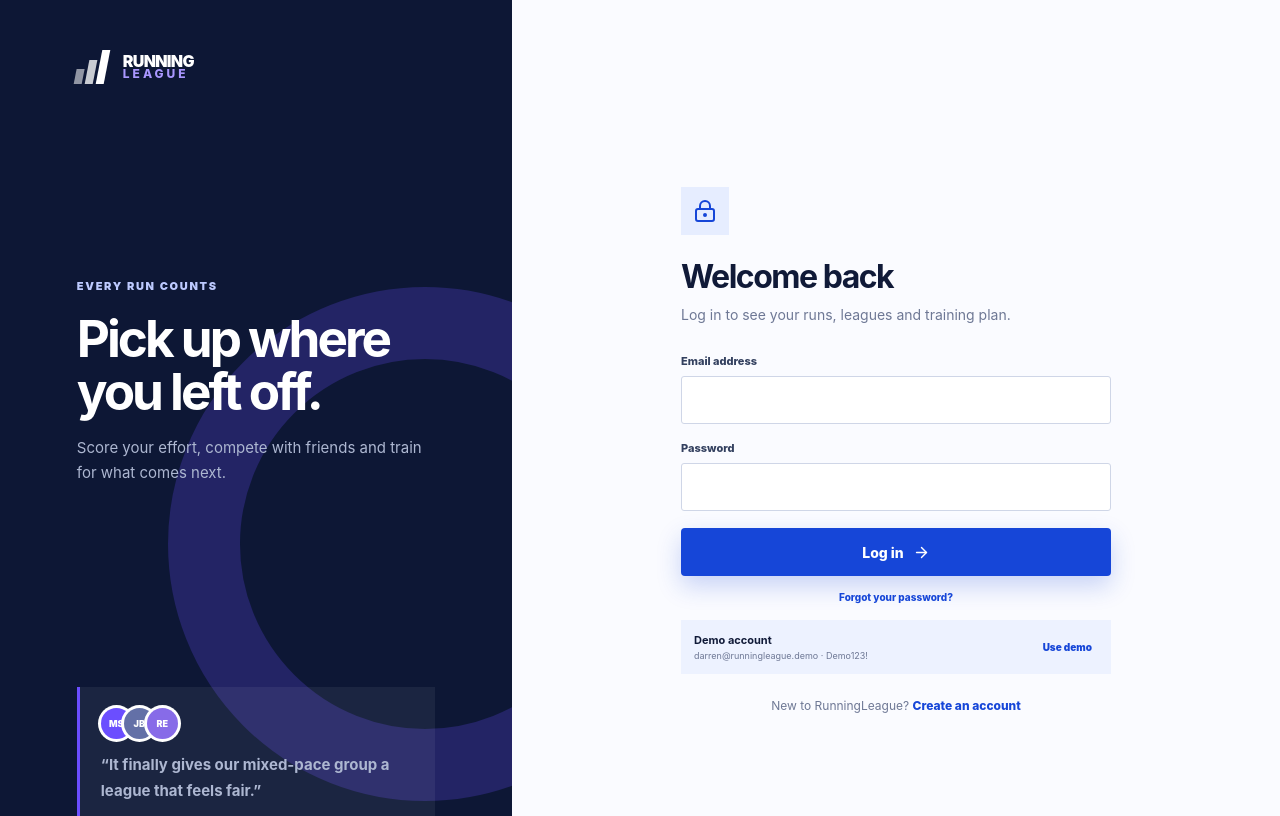
Test: RunningLeague product › adds and scores a manual run
The width and height of the screenshot is (1280, 816).
Click the button "Use demo" at (1067, 647), box [1037,640,1098,654]
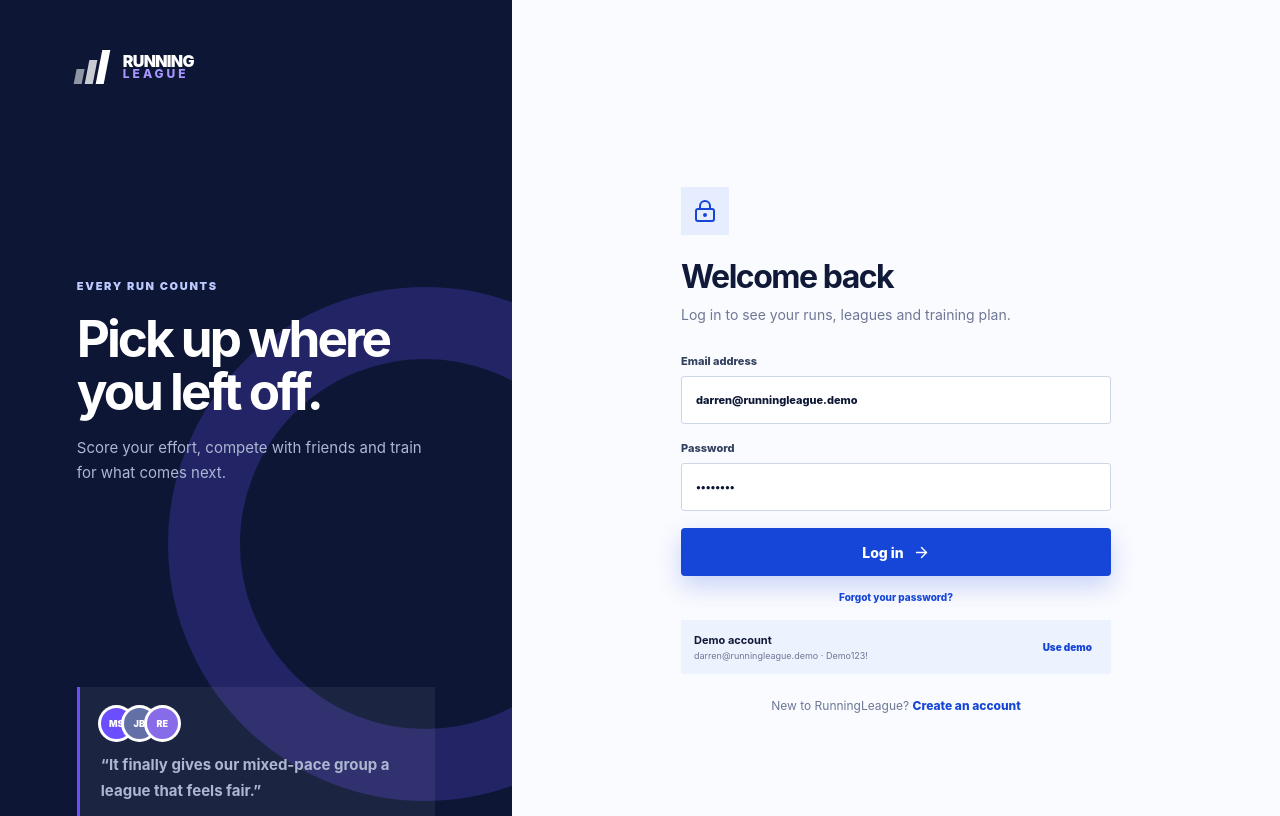
Click the button "Log in" at (896, 552), box [681,528,1111,576]
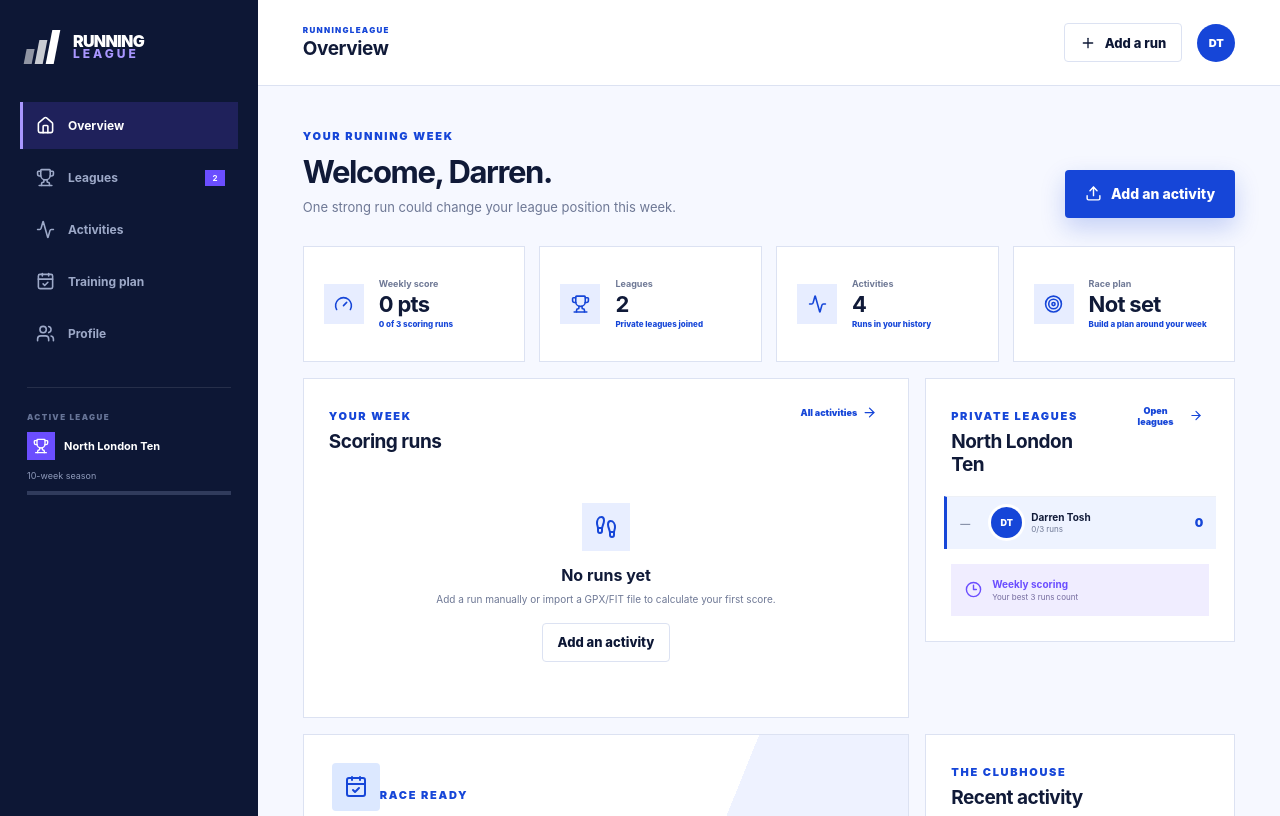
Expected: the heading "Welcome, Darren." is shown, [303,153,552,190]
Click the link "Activities" at (80, 230), box [36,220,123,239]
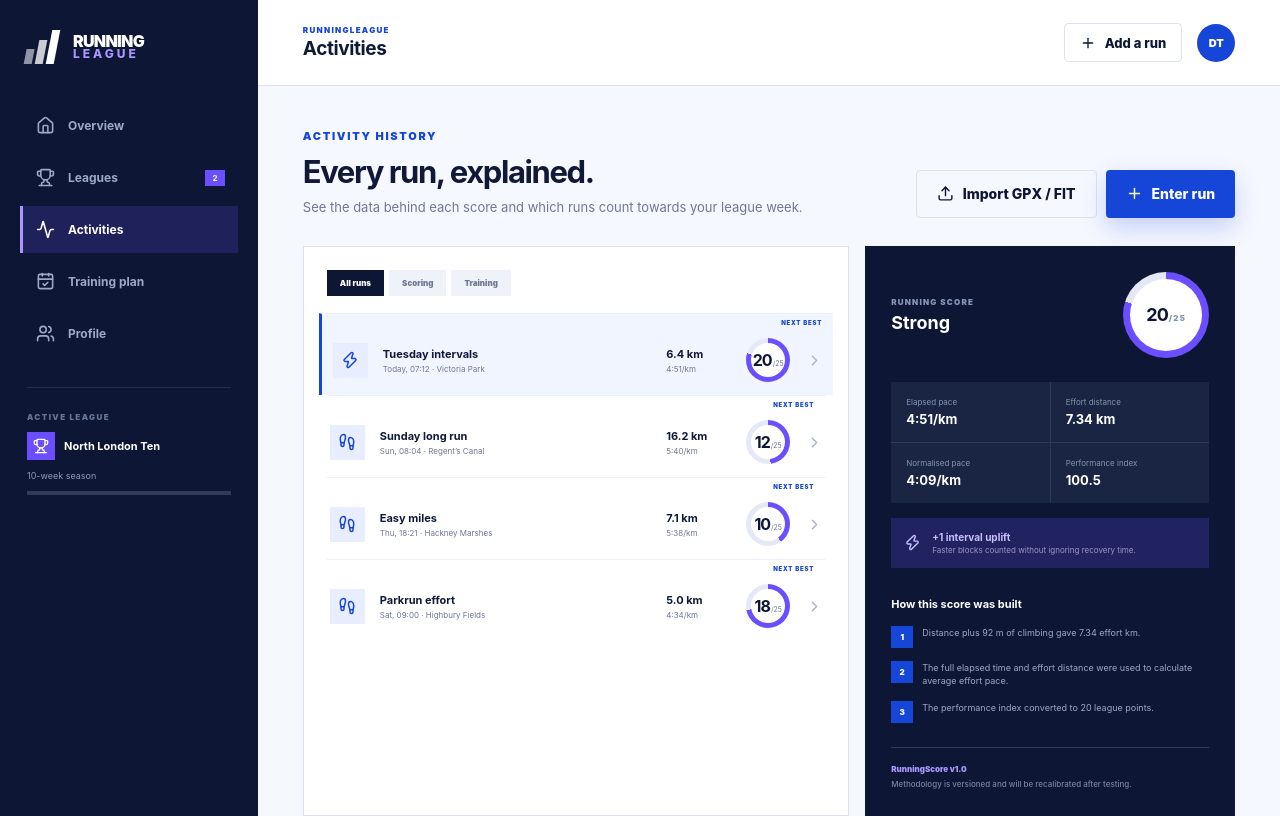
Click the button "Enter run" at (1170, 194), box [1106,170,1235,218]
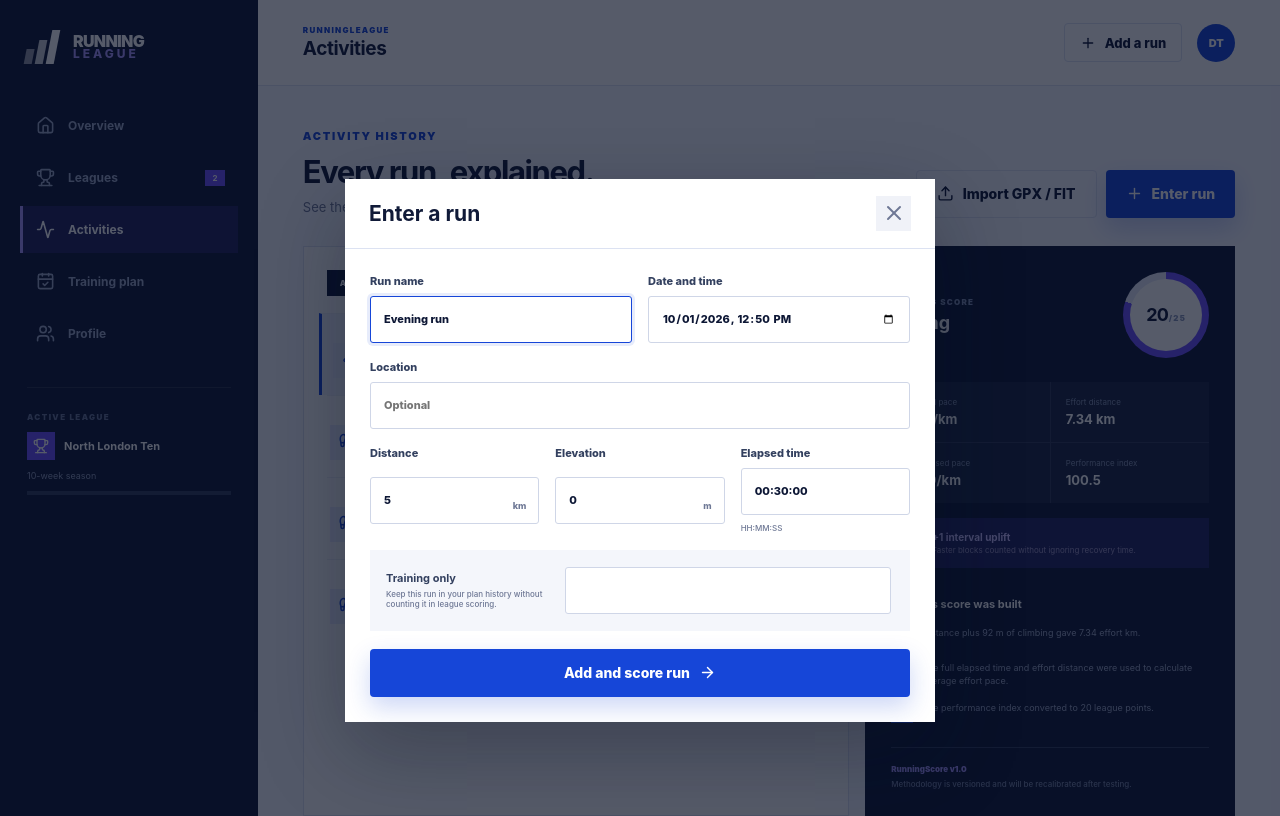
Replace the text in the field labelled "Run name" with "Lunch 5K" at (501, 319), box [370,296,632,342]
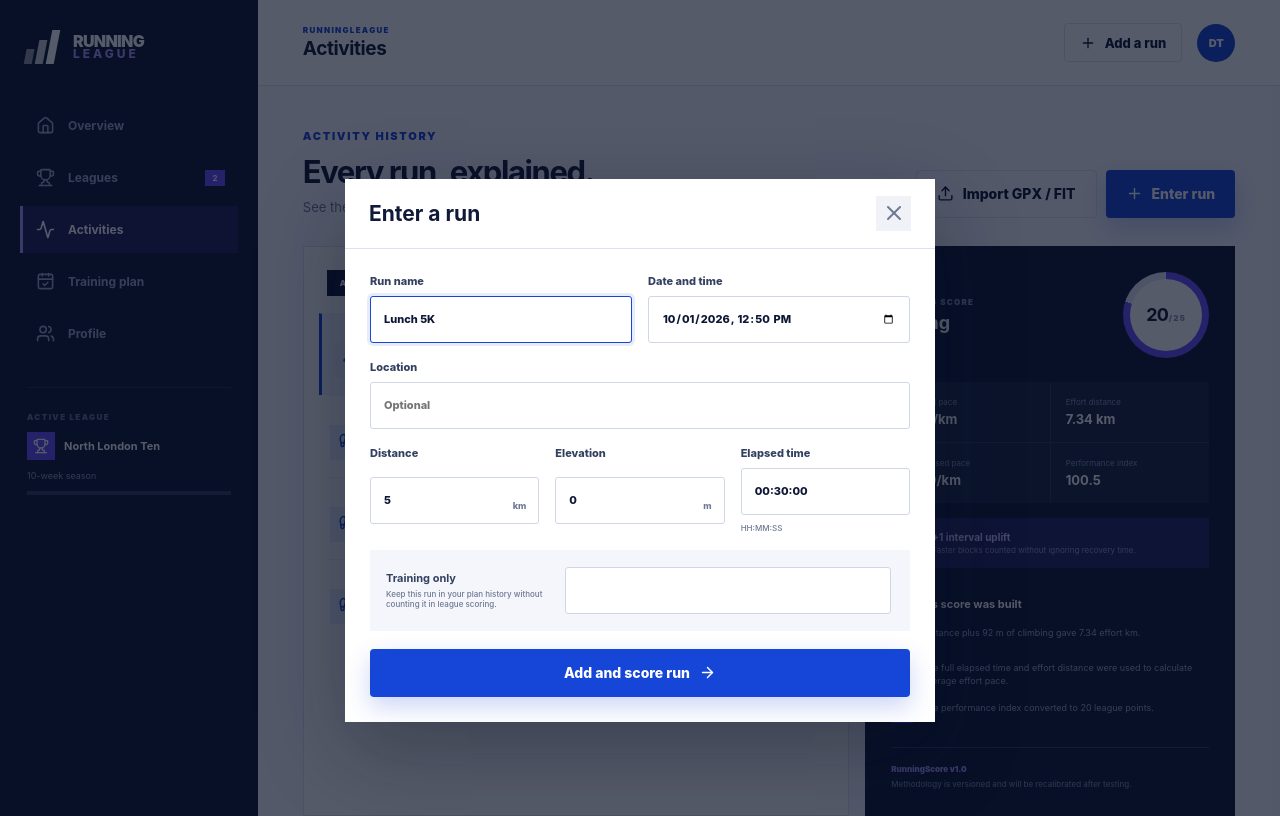
Click the button "Add and score run" at (640, 672), box [370,648,910,696]
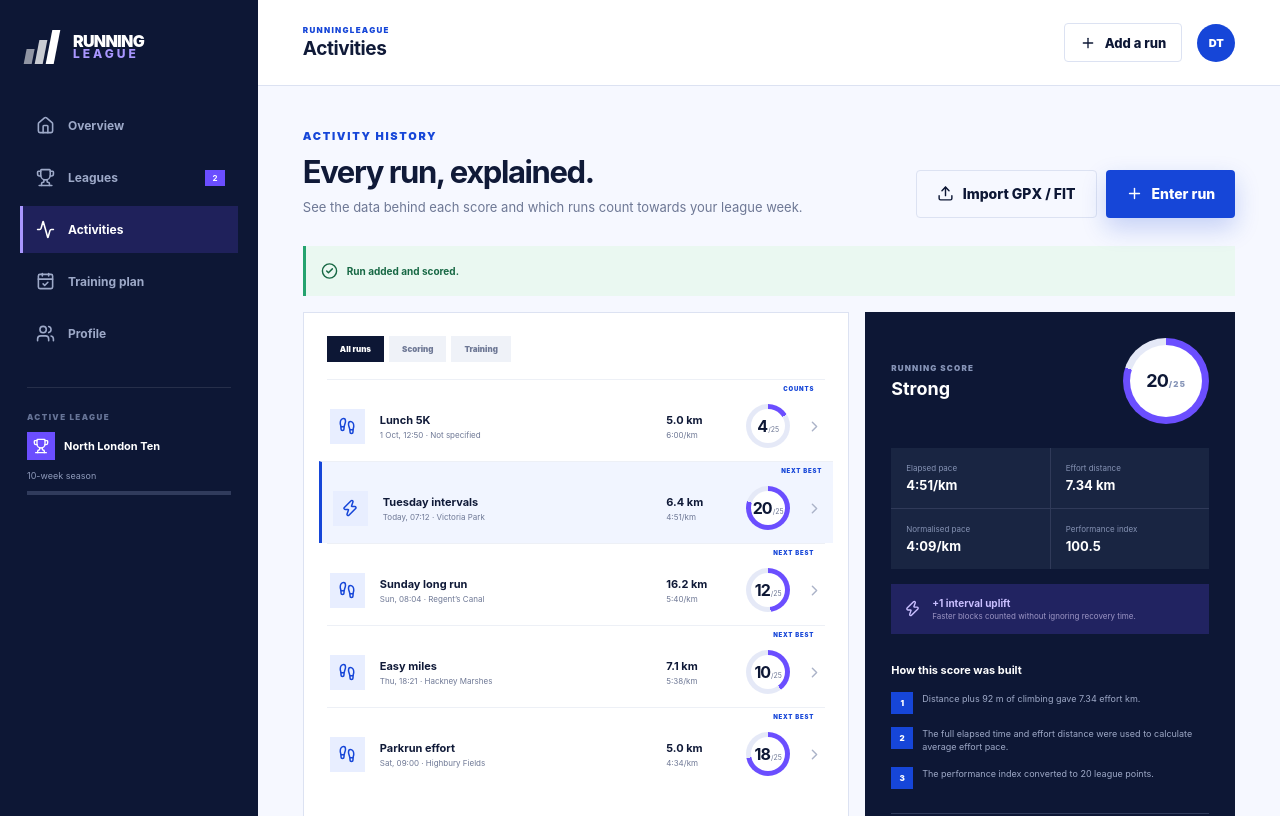
Expected: the text "Run added and scored." is shown, [303,246,1235,296]
Expected: the text "Lunch 5K" is shown, [380,413,430,427]
